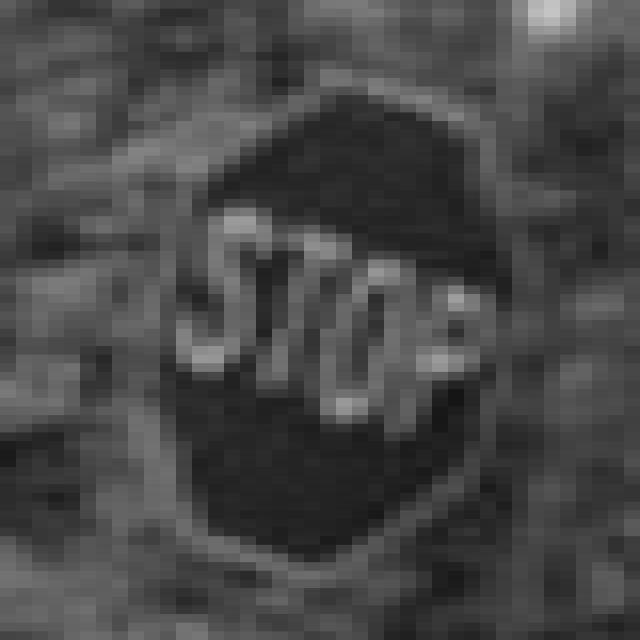stop: (138, 72, 532, 598)
